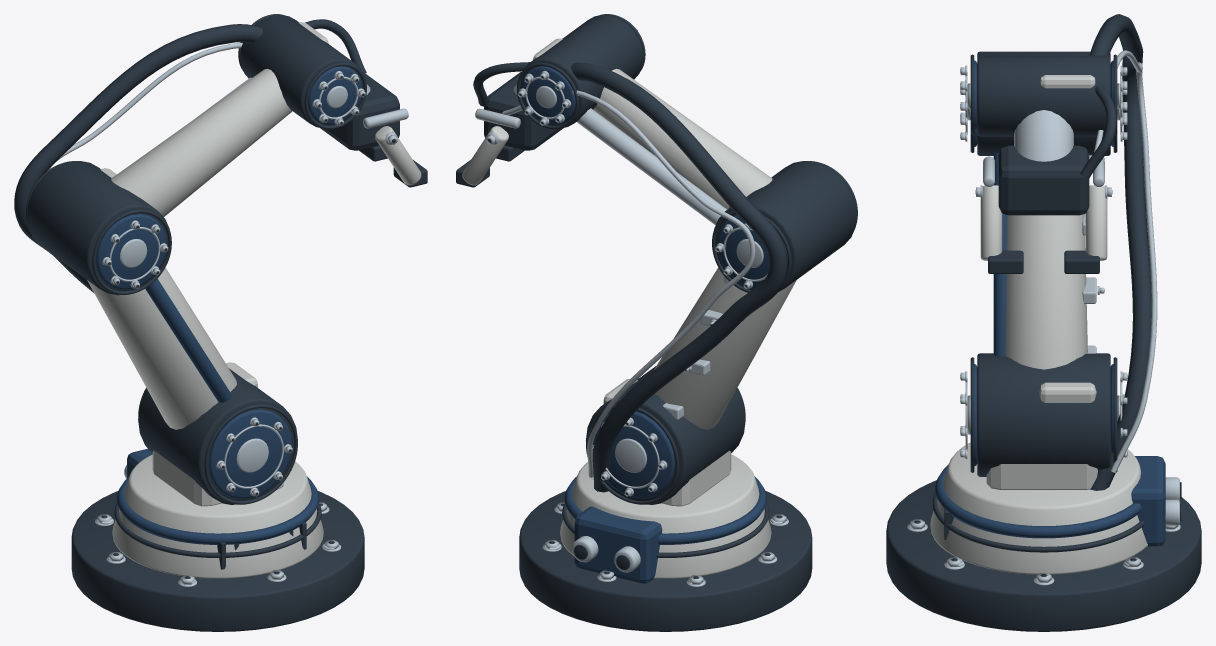
File: robot.glb
3 renders of one model, left to right at view 1: azimuth 30°, elevation 25°; view 2: azimuth 150°, elevation 25°; view 3: azimuth 270°, elevation 25°, orthographic. The views are drawn at different scales.
Parts seen in each view (by area): view 1: Base plate, Base housing, Base trim, Shoulder hub; view 2: Base plate, Base housing, Shoulder hub, Base trim; view 3: Base plate, Base housing, Shoulder hub, Base trim.
Boxes of the visible parts, x1=… form: Base plate: x1=14, y1=14, x2=427, y2=631; Base housing: x1=87, y1=22, x2=421, y2=578; Base trim: x1=96, y1=66, x2=362, y2=544; Shoulder hub: x1=47, y1=43, x2=408, y2=586; Base plate: x1=456, y1=14, x2=857, y2=631; Base housing: x1=462, y1=38, x2=796, y2=578; Shoulder hub: x1=475, y1=28, x2=788, y2=586; Base trim: x1=521, y1=66, x2=787, y2=583; Base plate: x1=886, y1=14, x2=1201, y2=631; Base housing: x1=930, y1=75, x2=1147, y2=574; Shoulder hub: x1=907, y1=50, x2=1180, y2=585; Base trim: x1=935, y1=60, x2=1165, y2=546.
Size of the model in its own units: 1.8 by 2.56 by 1.32.
